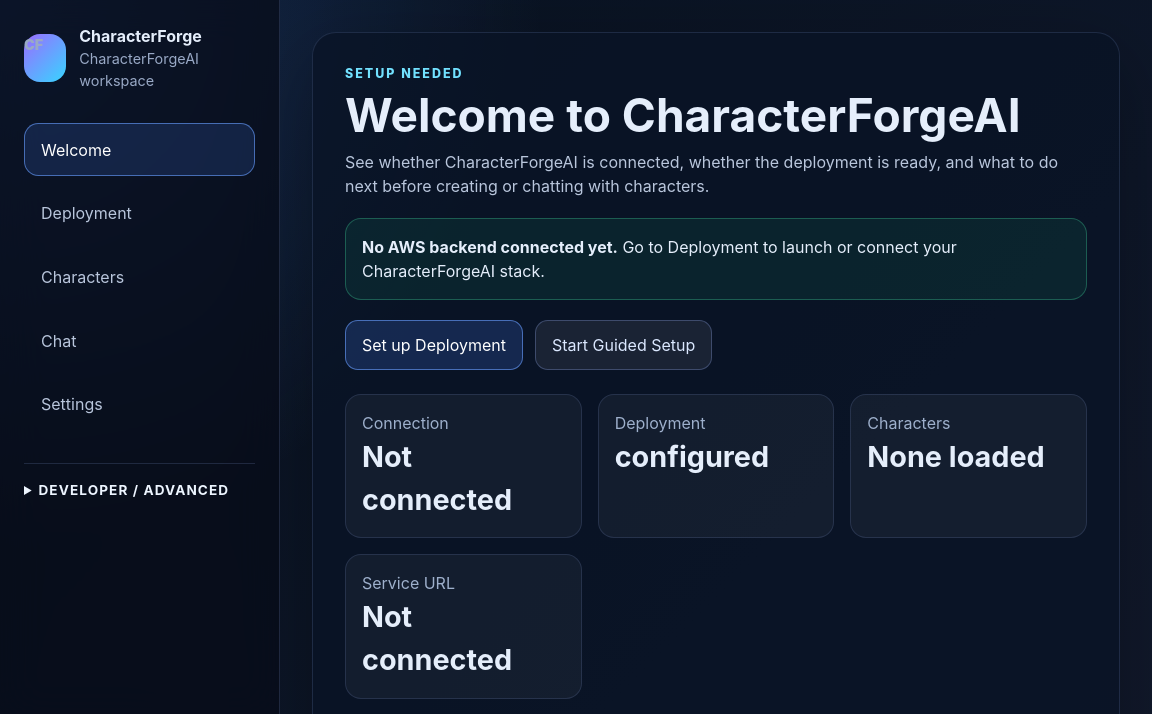
Test case: CharacterForge dashboard › selects a synced character from the API list before chatting
Step 1. Click the button "Deployment" → [140, 213], box [24,187,255,240]
(page scrolled)
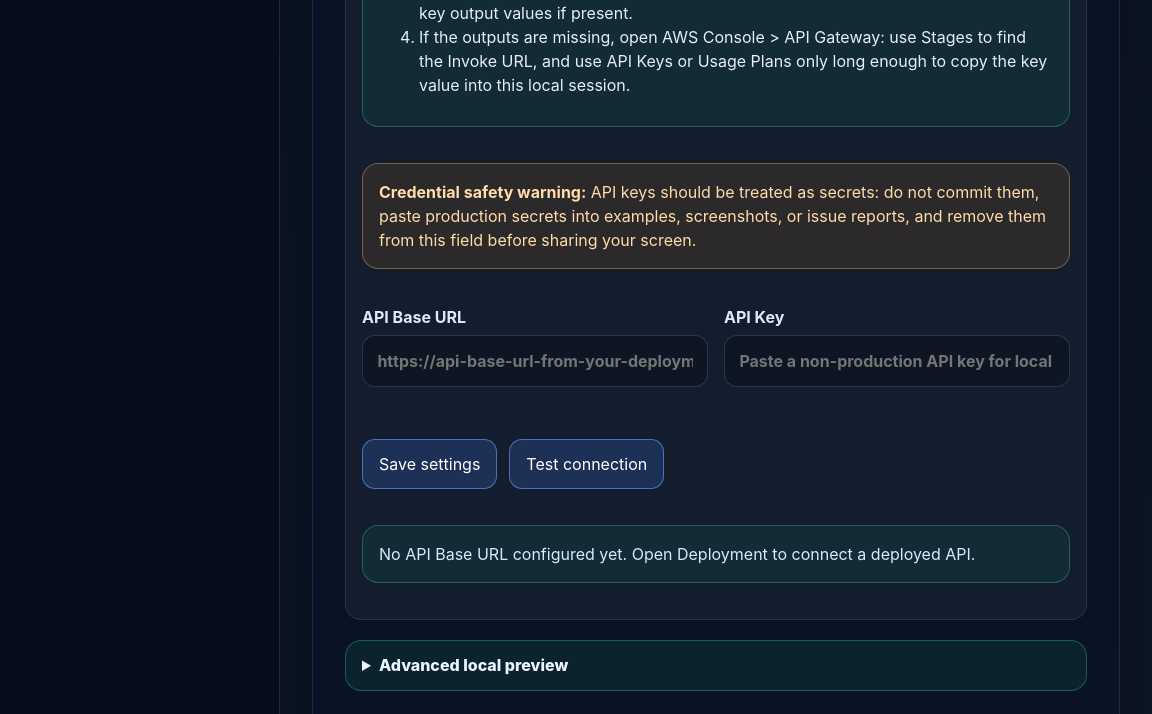
Step 2. Type "https://api.example.test/dev" into the field labelled "API Base URL" → [535, 361], box [362,335,708,387]
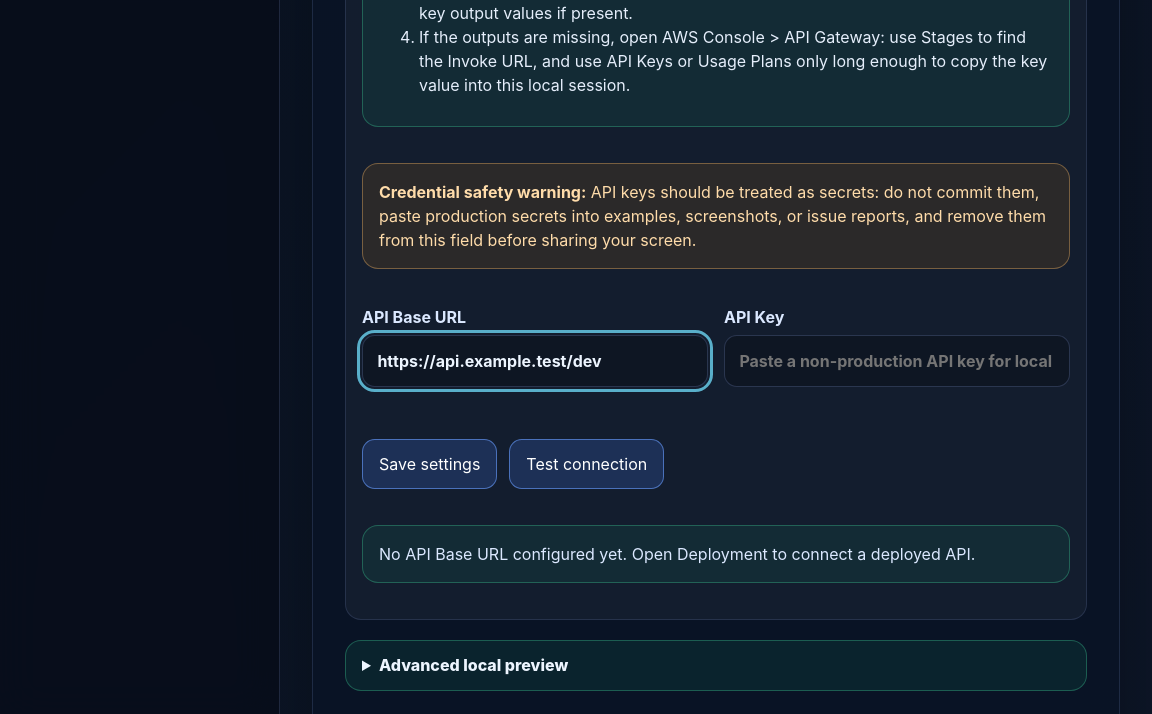
Step 3. Click the button "Test connection" → [587, 464], box [509,439,664,489]
(page scrolled)
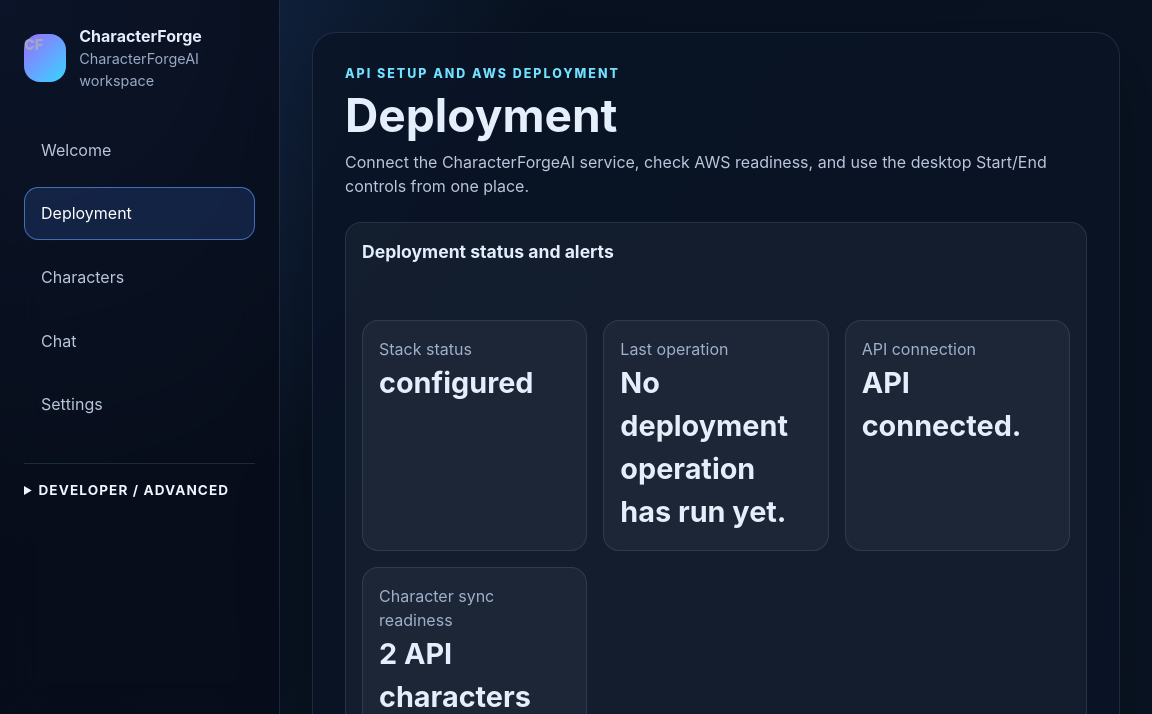
Step 4. Click the button "Chat" → [140, 341], box [24,314,255,367]
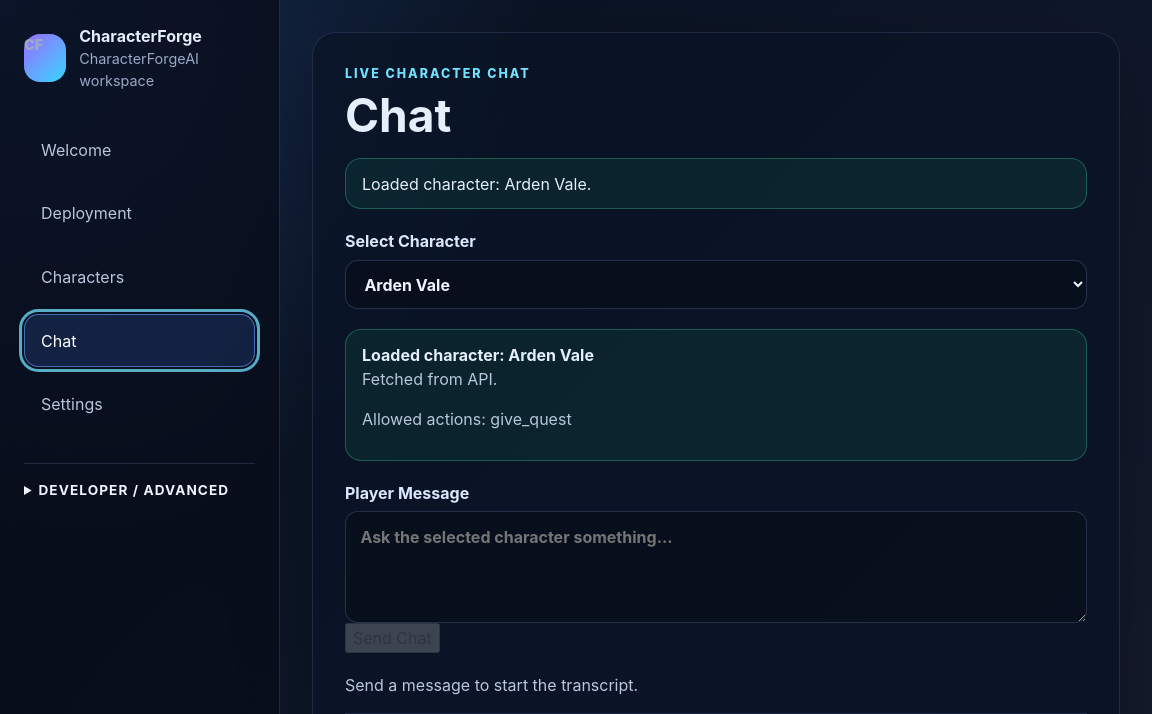
Now the dropdown labelled "Select Character" shows "Arden Vale"
Now the text "Loaded character: Arden Vale." is shown, box [345,158,1087,209]
Step 5. Select "Lyra Quill" in the dropdown labelled "Select Character" → [716, 285], box [345,260,1087,309]
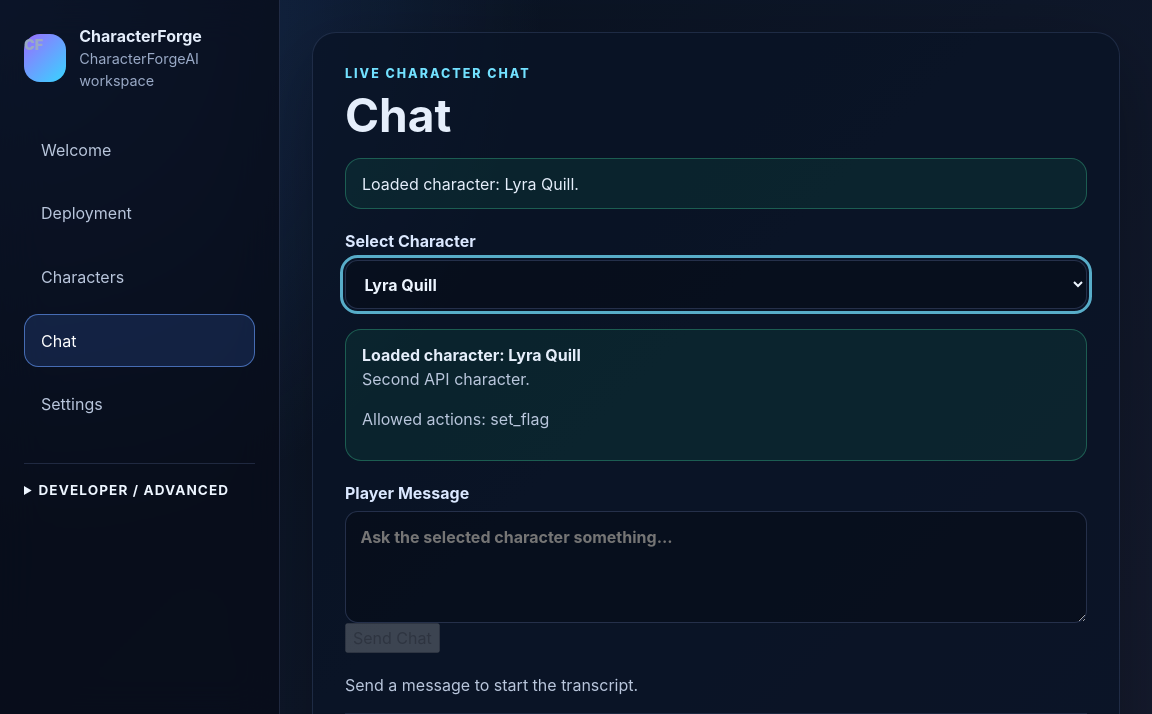
Now the text "Loaded character: Lyra Quill." is shown, box [345,158,1087,209]
Now the text "Second API character." is shown, box [362,369,530,389]
